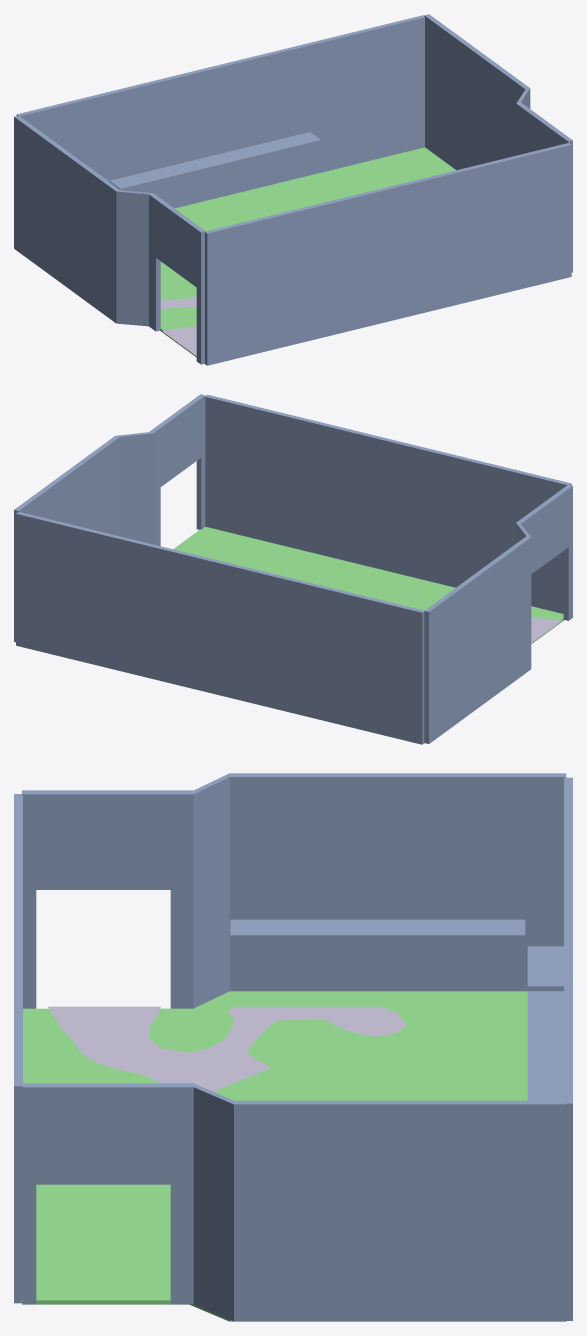
Rendered from cesFloorBare.fbx.
3 renders of one model, top to bottom at view 1: azimuth 30°, elevation 25°; view 2: azimuth 150°, elevation 25°; view 3: azimuth 270°, elevation 25°, orthographic. The views are drawn at different scales.
Parts seen in each view (by area): view 1: Wall-E.005, Wall-E.001, Wall-E.003, Wall-E.004, Wall-E.006, Floor, Counter Nbig, Wall-E.007, Plane, Storage; view 2: Wall-E.001, Wall-E.005, Wall-E.003, Floor, Wall-E.007, Wall-E.004, Wall-E.006; view 3: Wall-E.004, Wall-E.003, Floor, Wall-E.007, Wall-E.006, Plane, Counter W, Storage.001, Wall-E.005, Wall-E.001, Counter Nbig, Counter Nsmall.
Part boxes in pixels (x1,y1,x2,y2): Wall-E.005: (205, 143, 571, 365); Wall-E.001: (16, 15, 424, 208); Wall-E.003: (14, 115, 120, 322); Wall-E.004: (424, 14, 529, 170); Wall-E.006: (116, 190, 205, 364); Floor: (160, 152, 435, 357); Counter Nbig: (109, 132, 320, 190); Wall-E.007: (516, 88, 572, 272); Plane: (160, 295, 196, 355); Storage: (405, 147, 455, 174); Wall-E.001: (16, 512, 424, 744); Wall-E.005: (205, 394, 571, 613); Wall-E.003: (424, 536, 531, 743); Floor: (173, 526, 564, 643); Wall-E.007: (116, 394, 205, 546); Wall-E.004: (14, 436, 119, 642); Wall-E.006: (516, 484, 572, 620); Wall-E.004: (234, 1100, 566, 1321); Wall-E.003: (229, 773, 566, 991); Floor: (22, 1008, 527, 1304); Wall-E.007: (23, 1083, 233, 1321); Wall-E.006: (22, 773, 229, 1008); Plane: (48, 1006, 406, 1091); Counter W: (230, 919, 525, 939); Storage.001: (194, 991, 563, 1008); Wall-E.005: (14, 794, 22, 1303); Wall-E.001: (564, 777, 572, 1320); Counter Nbig: (527, 991, 563, 1100); Counter Nsmall: (527, 946, 563, 990).
Bounding box in the file's own units: 8225 × 2538 × 5834.
